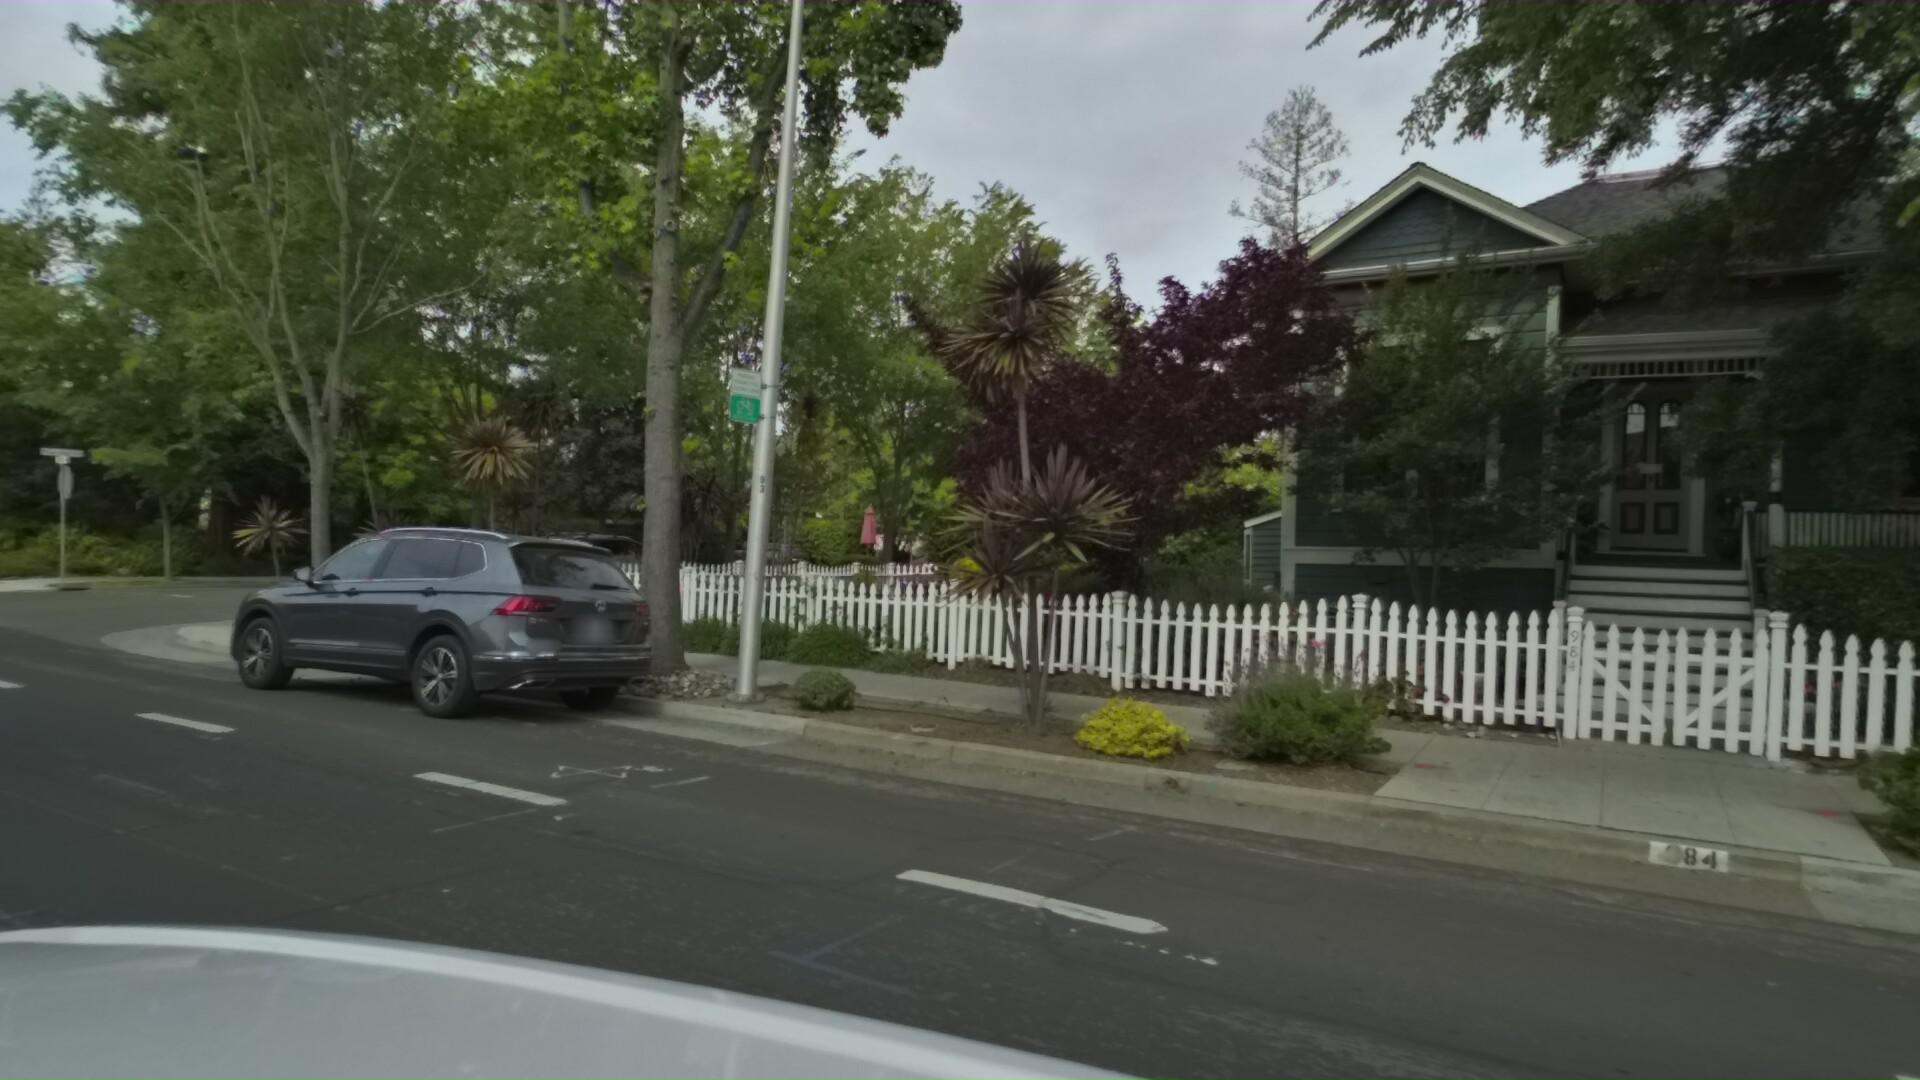car: (173, 516, 657, 736), (485, 524, 686, 609)
